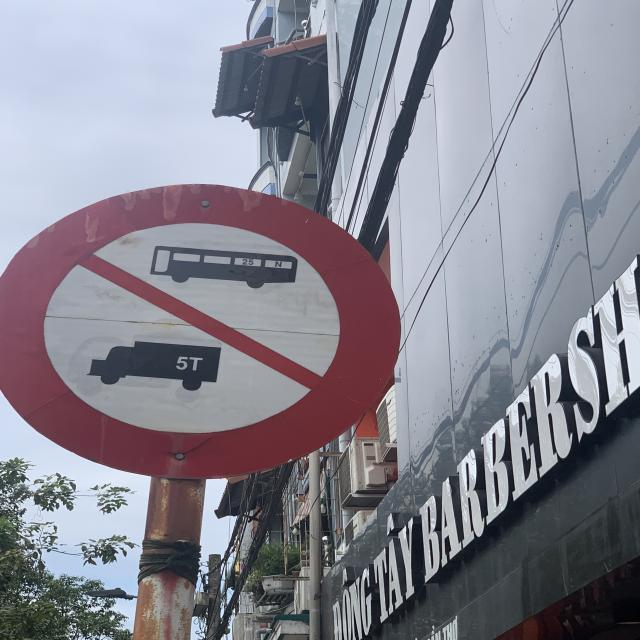Cam_XeTai_XeKhach: (3, 183, 400, 478)
